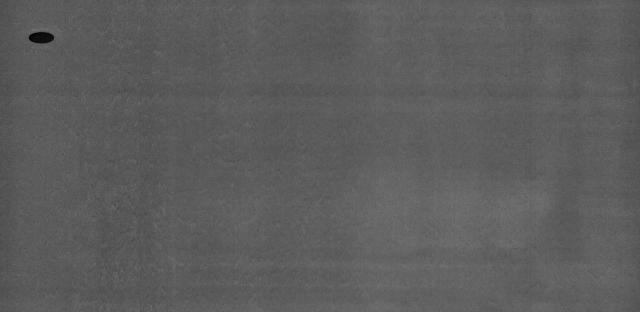punching_hole: (24, 29, 62, 47)
silk_spot: (91, 15, 174, 285)
